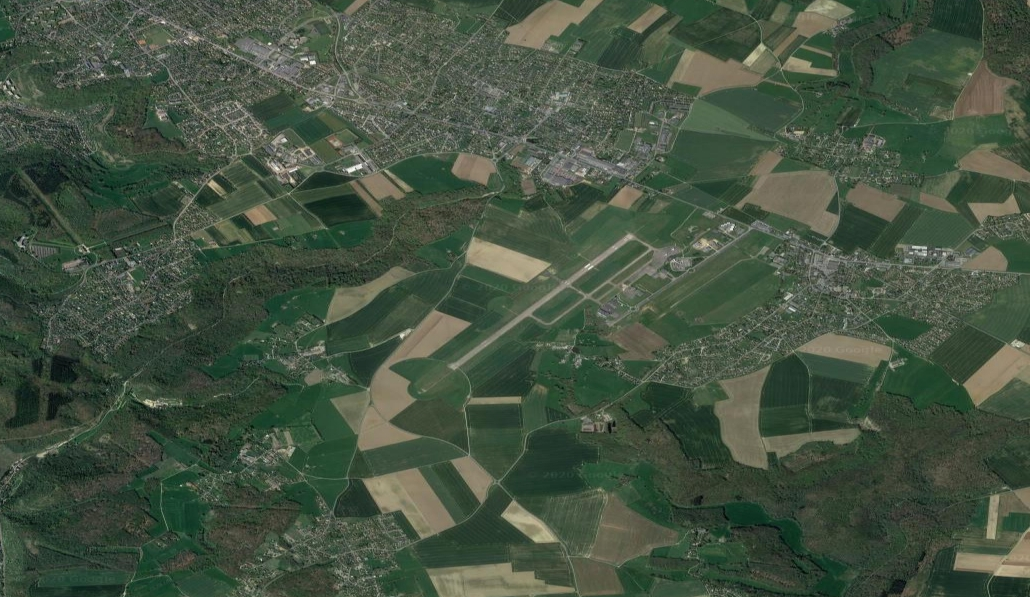airport: (444, 228, 693, 373)
